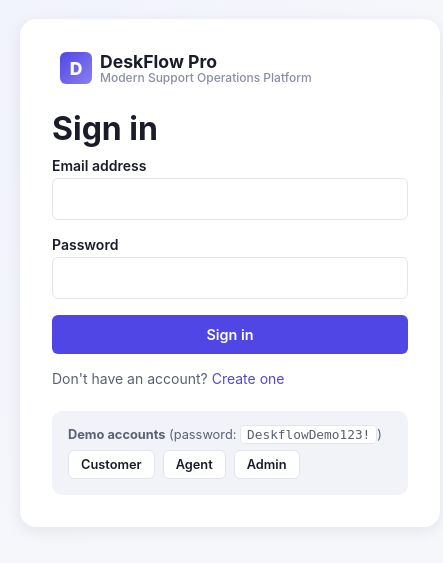
Test: LoginPage › shows a friendly error message on invalid credentials
Type "wrong@example.com" into the field labelled "Email address". click: (230, 199)
box: [52, 178, 408, 220]
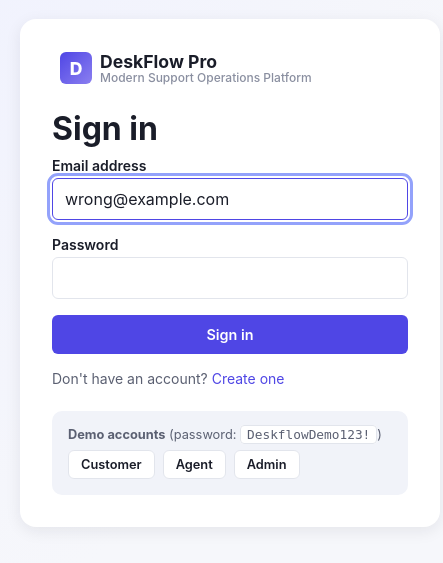
Type "wrongpassword" into the password field labelled "Password". click: (230, 278)
box: [52, 257, 408, 299]
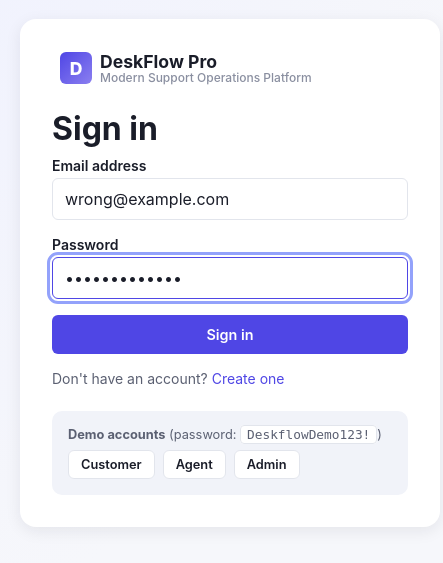
Click the button "Sign in". click: (230, 334)
box: [52, 315, 408, 354]
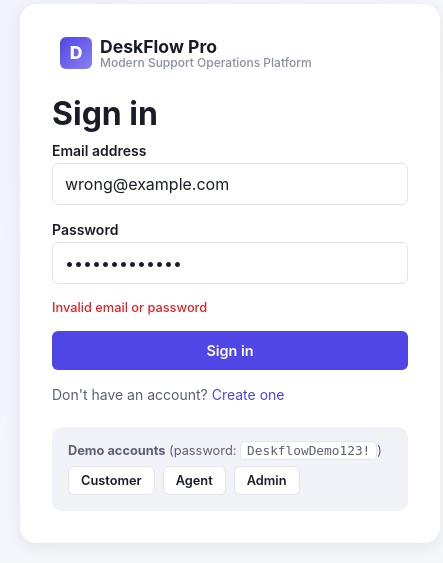
expect the message reads "Invalid email or password": met, box [52, 300, 207, 314]
